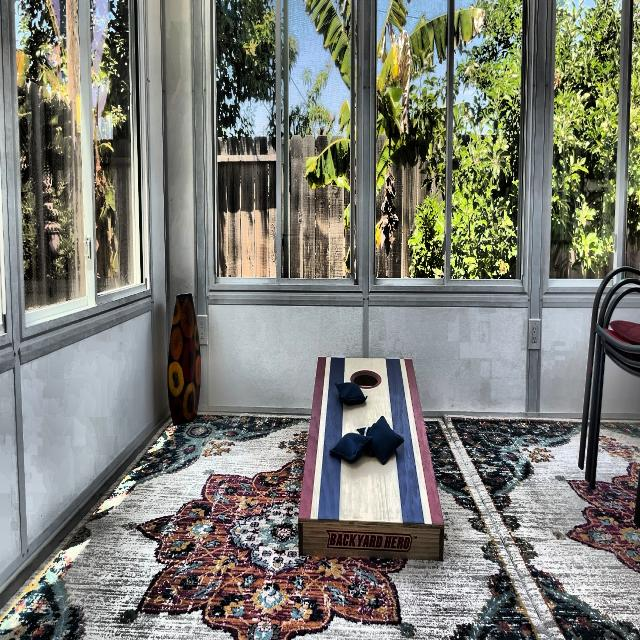blue-bean-bag: (365, 416, 404, 465), (329, 432, 372, 462), (357, 428, 392, 455), (334, 382, 368, 404)
board: (311, 358, 423, 519)
hole: (350, 369, 382, 389)
